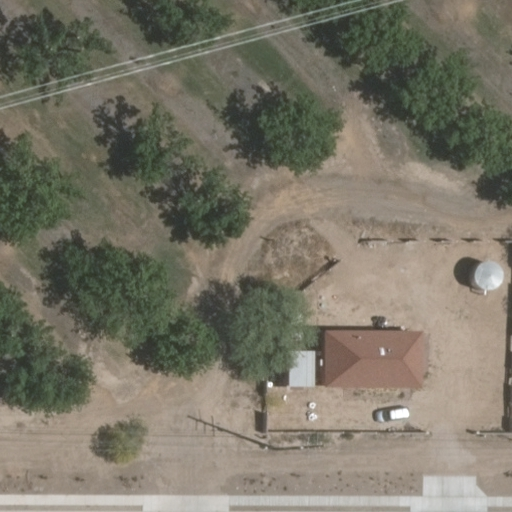DT: (263, 436, 334, 461)
